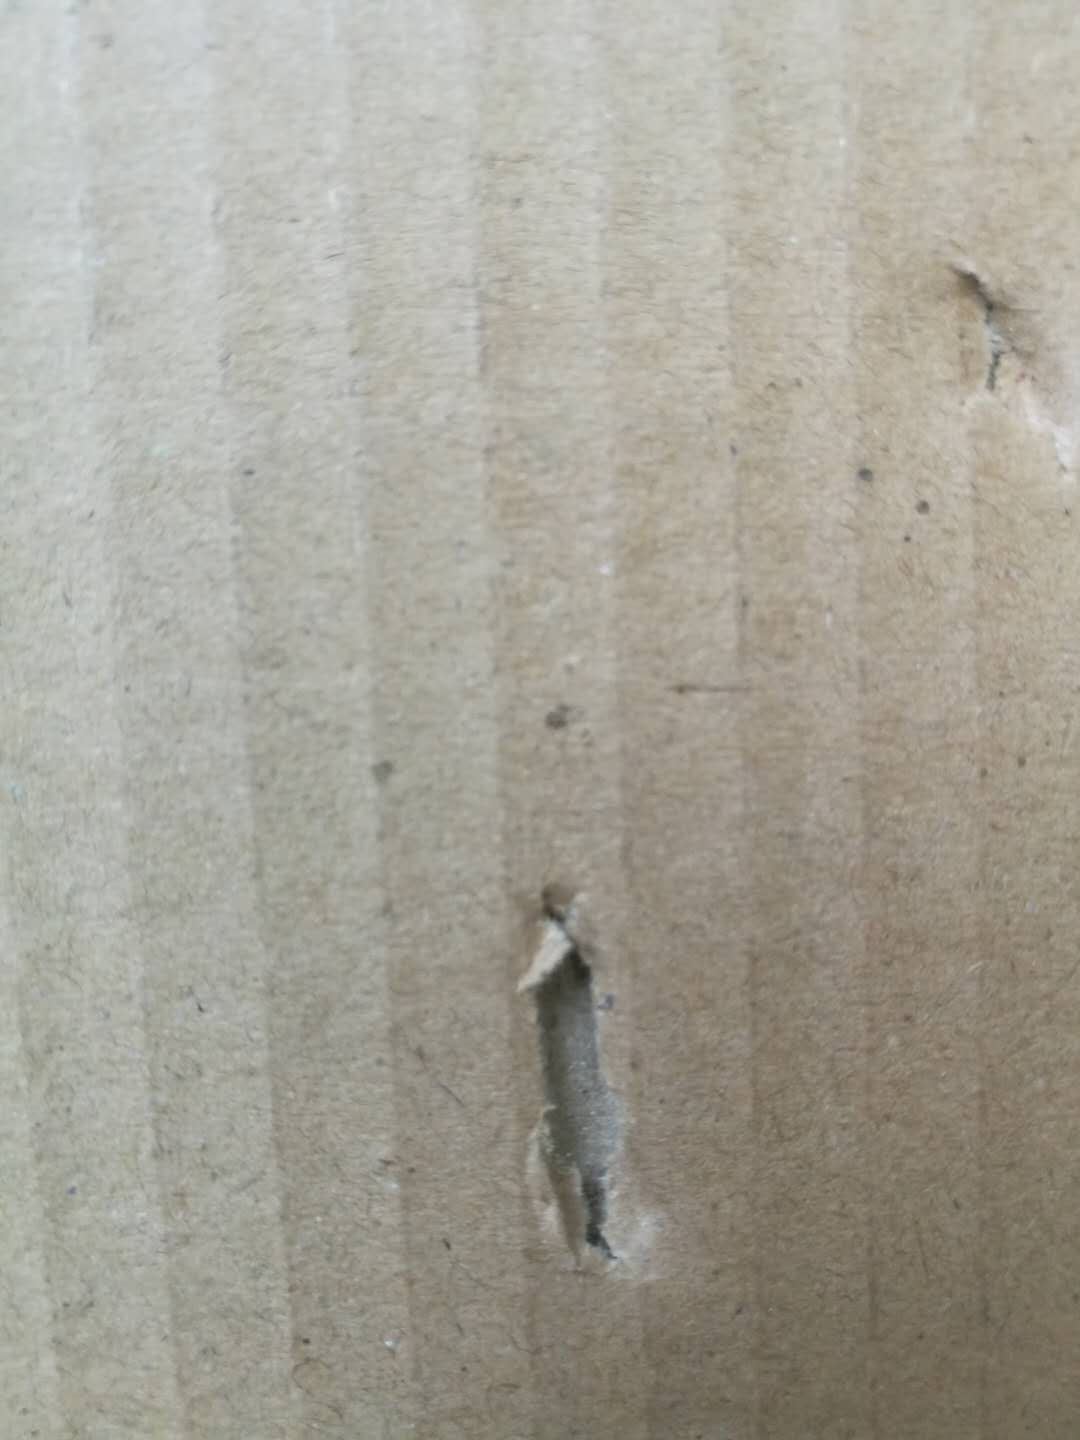defect: (459, 861, 703, 1313), (891, 215, 1080, 514)
